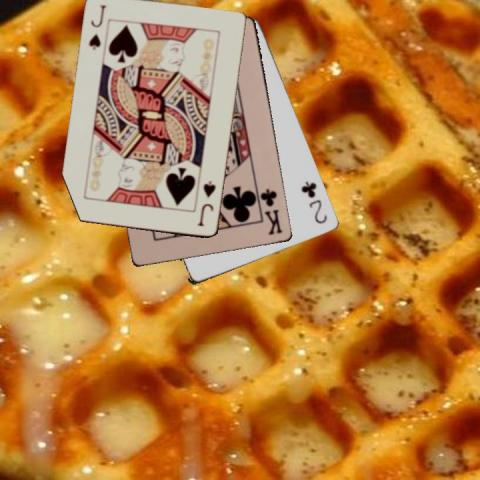2c: (299, 178, 329, 226)
Js: (196, 178, 218, 228), (86, 2, 107, 52)
Kc: (259, 185, 284, 237)
